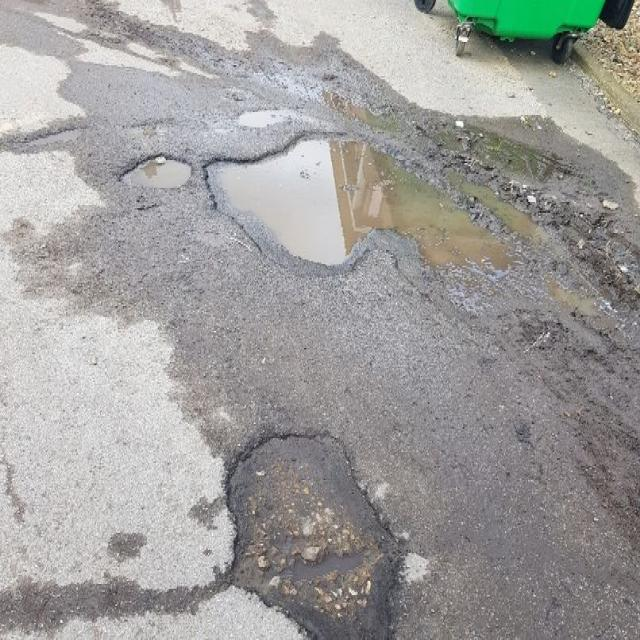pothole: (202, 115, 536, 283), (212, 412, 410, 638), (114, 140, 192, 200)
